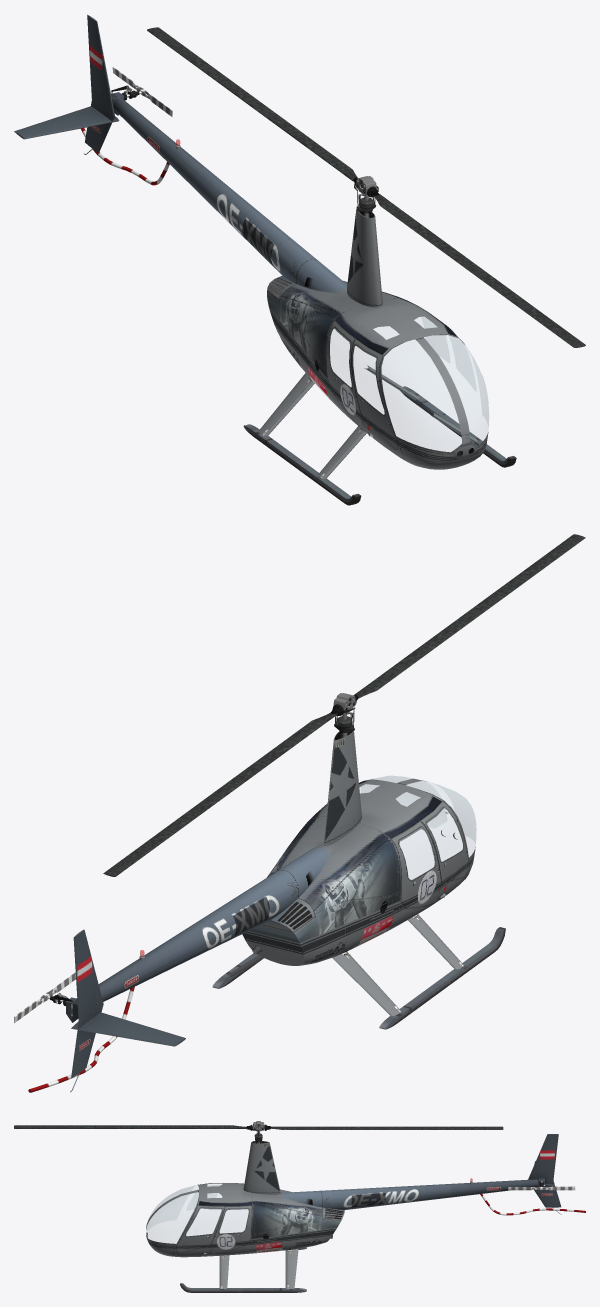
Rendered from OEXMO.gltf.
3 renders of one model, top to bottom at view 1: azimuth 30°, elevation 25°; view 2: azimuth 150°, elevation 25°; view 3: azimuth 270°, elevation 25°, orthographic. The views are drawn at different scales.
Visible parts, largest first — view 1: Exterior, Spin_0; view 2: Exterior, Spin_0; view 3: Exterior, Spin_0, Spin_1.
Part boxes in pixels (box(x1,y1,x2,y2)): Exterior: box(14, 14, 516, 505); Spin_0: box(147, 27, 585, 347); Exterior: box(28, 731, 505, 1092); Spin_0: box(103, 534, 585, 876); Exterior: box(146, 1134, 585, 1292); Spin_0: box(14, 1121, 503, 1143); Spin_1: box(508, 1184, 575, 1190).
Size of the model in its own units: 2.39 by 3.36 by 11.78.
Materials: 10 (10 with a texture image).
